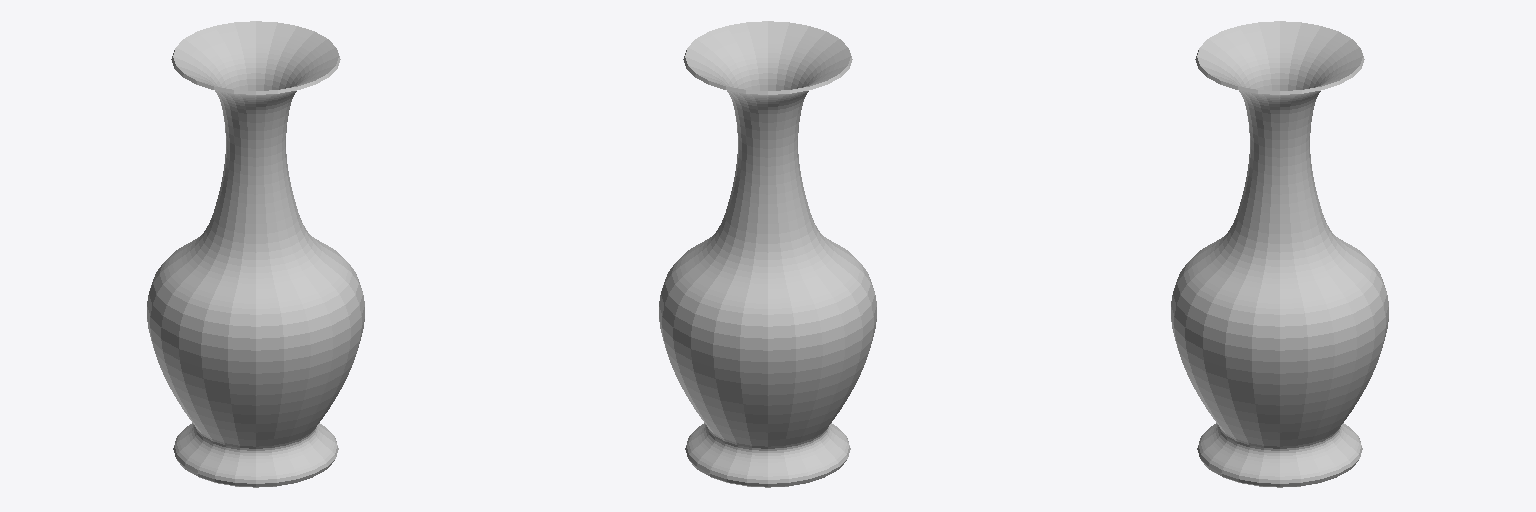
Rendered from vase_01.obj.
3 renders of one model, left to right at view 1: azimuth 30°, elevation 25°; view 2: azimuth 150°, elevation 25°; view 3: azimuth 270°, elevation 25°, orthographic.
Visible parts, largest first — view 1: vase; view 2: vase; view 3: vase.
Part boxes in pixels (bbox=[...]): vase: bbox=[147, 21, 364, 487]; vase: bbox=[659, 21, 876, 487]; vase: bbox=[1171, 21, 1388, 487].
Bounding box in the file's own units: 9.44 × 19.03 × 9.44.